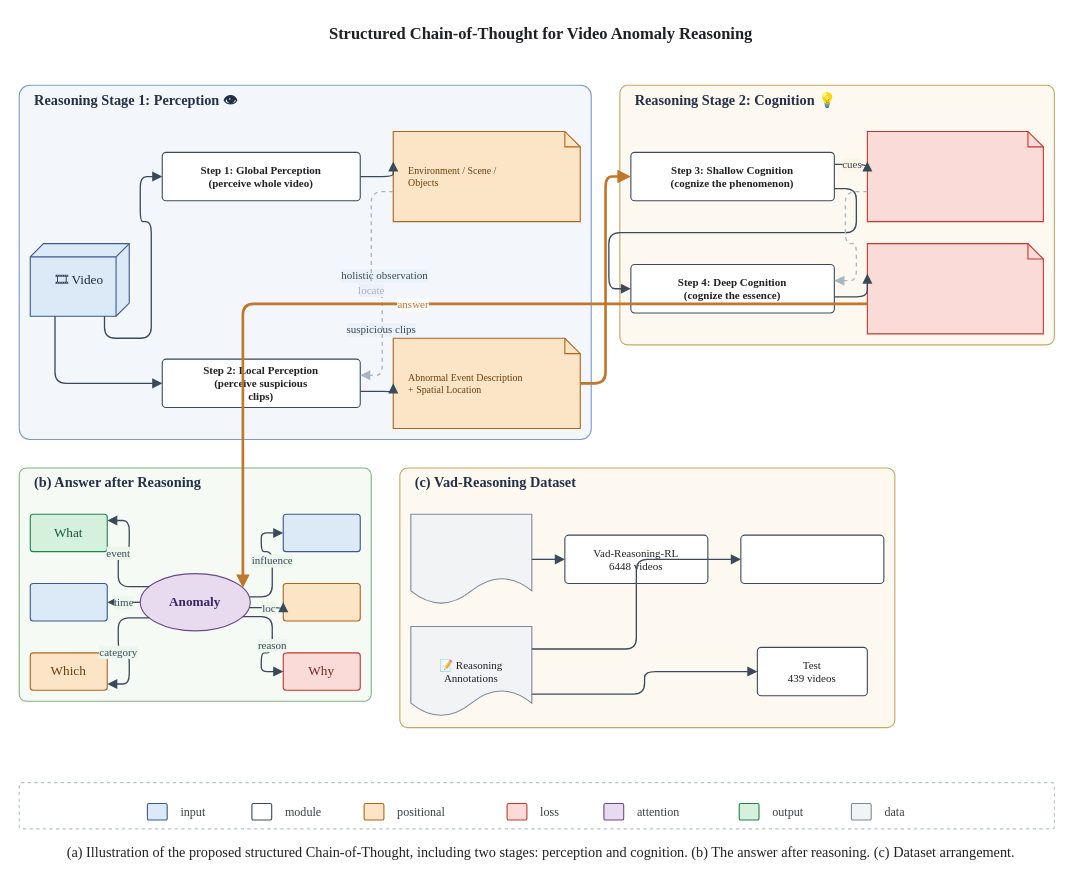
This 1081x880 diagram has some shape labels left out. Here are the shapes that lost their labels. From the top down, the centre of each, then its label:
(954,176): Explanation + Anomaly Recognition
(954,288): Violation of Norms + Consequences
(321,532): How
(471,558): 📼 Raw Videos + weak labels
(812,559): Vad-Reasoning-SFT 1755 videos
(68,601): When
(321,601): Where
